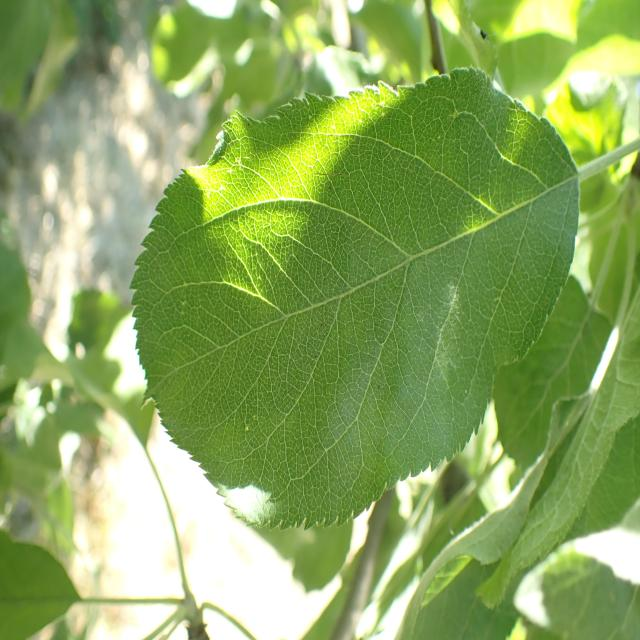healthy: (129, 65, 580, 532), (475, 282, 640, 616), (491, 274, 618, 468), (513, 500, 640, 640)
